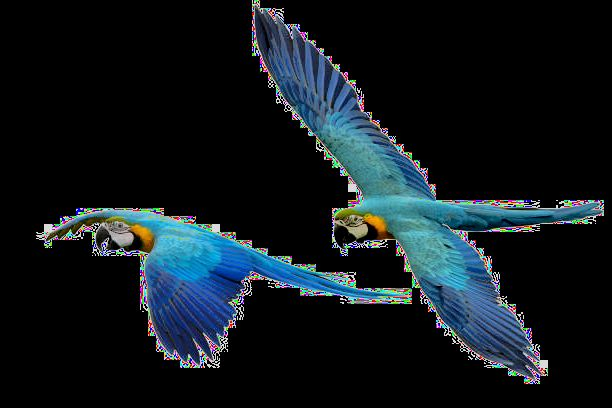Bird: (246, 0, 603, 388), (36, 195, 418, 374)
